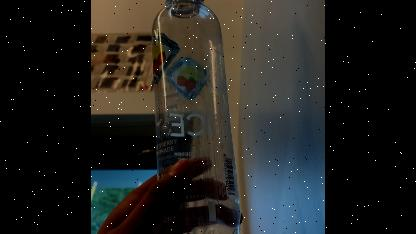Plastic Bottle: (152, 0, 245, 234)
